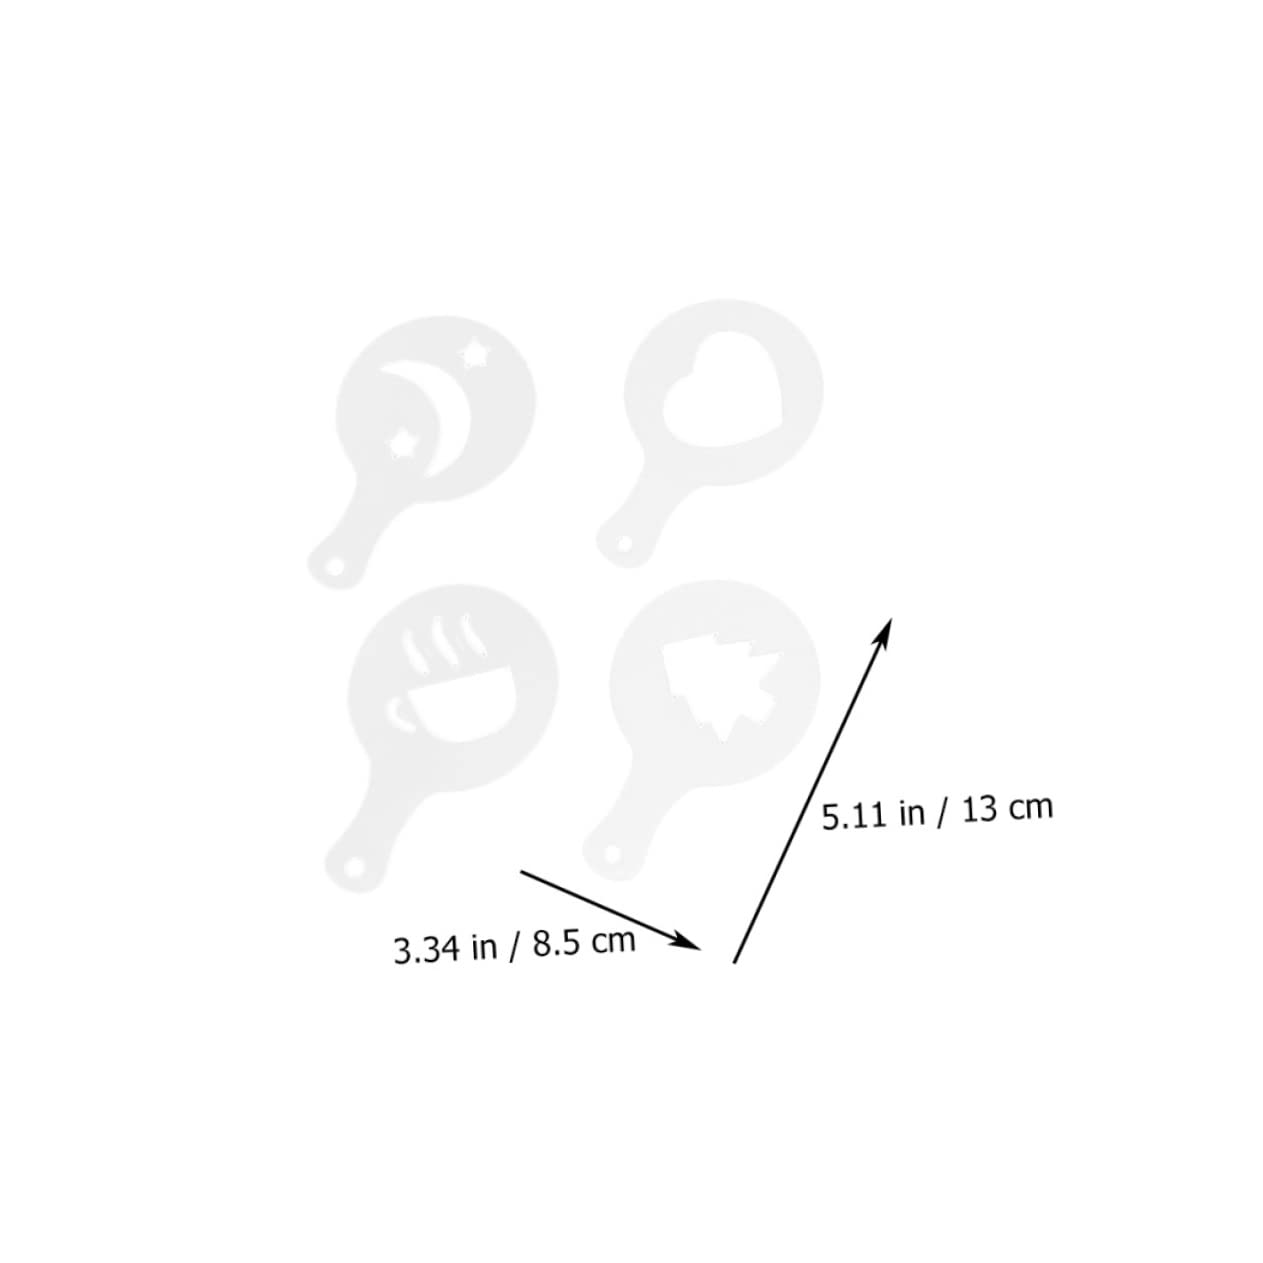/: (940, 791, 953, 839)
3.34: (396, 936, 459, 963)
5.11: (823, 802, 886, 830)
in: (900, 797, 948, 829), (472, 935, 497, 960)
